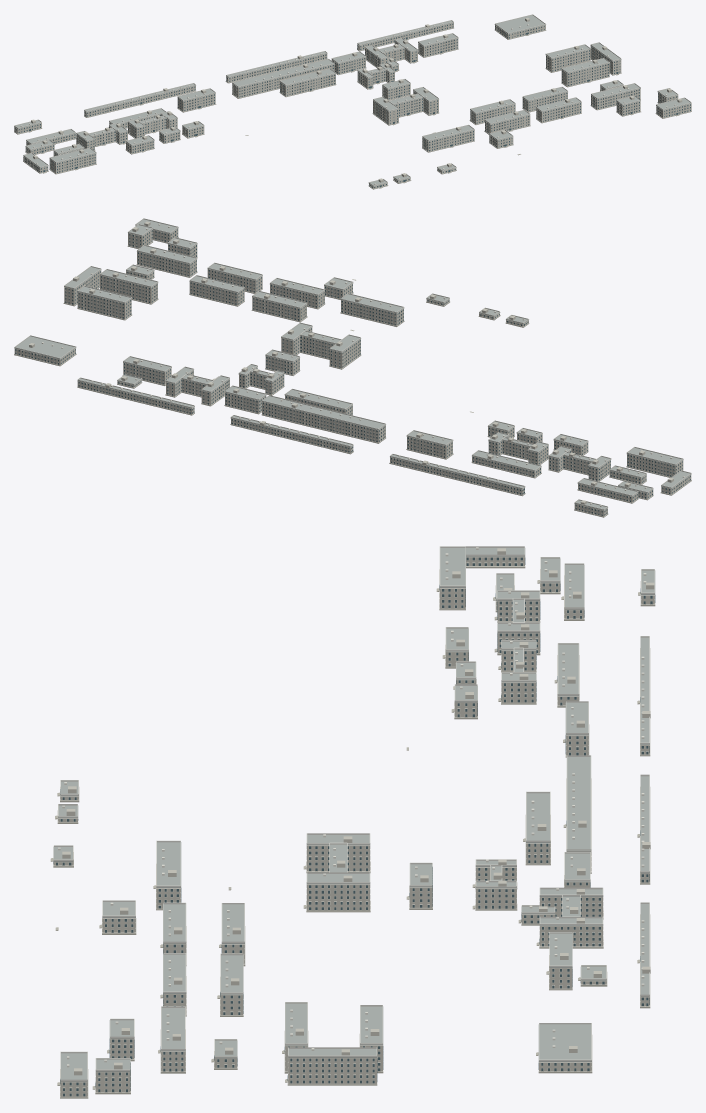
Rendered from shared-02-medium-photo.glb.
3 renders of one model, top to bottom at view 1: azimuth 30°, elevation 25°; view 2: azimuth 150°, elevation 25°; view 3: azimuth 270°, elevation 25°, orthographic. The views are drawn at different scales.
Visible parts, largest first — view 1: Weathered flat roof details.004, Window frames and coping details.004, Dark blue grey glazing details.004, Pale limestone details.004, Walkway stone details.004, Warm ivory plaster details.004, 跃进楼.001, 八号楼（研究生院）.001, 科学楼.001, 十一号楼（经济学院）.001, 第二教学楼.001, 图示附属建筑 09.001 (+13 smaller); view 2: Weathered flat roof details.004, Window frames and coping details.004, Dark blue grey glazing details.004, Pale limestone details.004, Walkway stone details.004, Warm ivory plaster details.004, 跃进楼.001, 八号楼（研究生院）.001, 十一号楼（经济学院）.001, 第二教学楼.001, 0号楼（学生服务站）.001, 图示附属建筑 09.001 (+9 smaller); view 3: Weathered flat roof details.004, Window frames and coping details.004, Pale limestone details.004, Dark blue grey glazing details.004, Walkway stone details.004, Warm ivory plaster details.004, 十号楼（复旦学院）.001, 生命科学楼 · 东翼.001, 生命科学楼 · 西翼.001.
Part boxes in pixels (x1,y1,x2,y2): Weathered flat roof details.004: (14,15,691,186); Window frames and coping details.004: (14,23,691,188); Dark blue grey glazing details.004: (14,23,690,187); Pale limestone details.004: (14,14,691,186); Walkway stone details.004: (14,28,691,189); Warm ivory plaster details.004: (31,17,682,182); 跃进楼.001: (232,64,334,97); 八号楼（研究生院）.001: (561,63,609,86); 科学楼.001: (280,74,335,96); 十一号楼（经济学院）.001: (546,50,590,71); 第二教学楼.001: (422,130,474,151); 图示附属建筑 09.001: (84,86,195,116); Weathered flat roof details.004: (14,219,691,510); Window frames and coping details.004: (14,224,691,516); Dark blue grey glazing details.004: (15,229,690,515); Pale limestone details.004: (14,218,691,510); Walkway stone details.004: (14,237,691,517); Warm ivory plaster details.004: (29,221,673,504); 跃进楼.001: (262,402,385,442); 八号楼（研究生院）.001: (100,275,157,303); 十一号楼（经济学院）.001: (77,292,131,318); 第二教学楼.001: (341,300,403,325); 0号楼（学生服务站）.001: (137,252,196,276); 图示附属建筑 09.001: (390,457,524,494); Weathered flat roof details.004: (53,548,655,1081); Window frames and coping details.004: (53,547,654,1096); Pale limestone details.004: (53,546,654,1081); Dark blue grey glazing details.004: (53,557,655,1096); Walkway stone details.004: (50,566,655,1098); Warm ivory plaster details.004: (62,548,654,1075); 十号楼（复旦学院）.001: (288,1057,376,1084); 生命科学楼 · 东翼.001: (307,885,369,910); 生命科学楼 · 西翼.001: (307,846,369,870).
Bounding box in the file's own units: 679 × 19.15 × 322.
